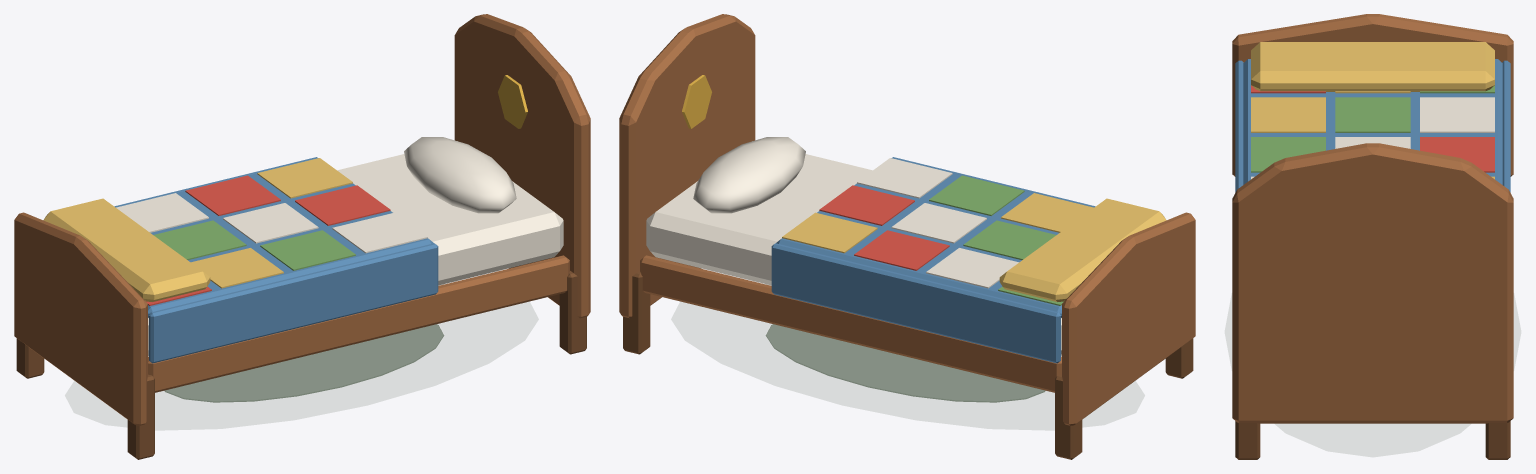
Rendered from bed.glb.
3 views of the same model, side by side, from view 1: azimuth 30°, elevation 25°; view 2: azimuth 150°, elevation 25°; view 3: azimuth 270°, elevation 25° (orthographic). The views are drawn at different scales.
Visible parts, largest first — view 1: bed; view 2: bed; view 3: bed.
Part boxes in pixels (x1=…): bed: x1=14, y1=14, x2=590, y2=459; bed: x1=619, y1=14, x2=1195, y2=459; bed: x1=1232, y1=14, x2=1513, y2=459.
Bounding box in the file's own units: 1.91 × 1.11 × 0.95.
